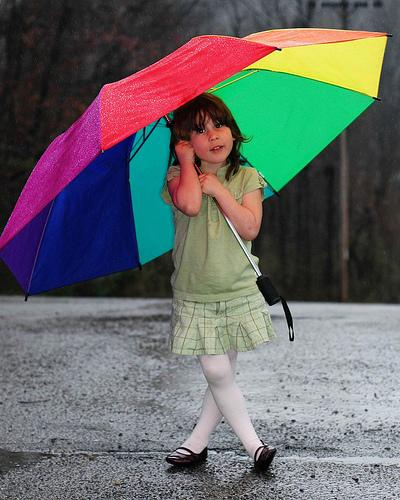person: (161, 93, 278, 475)
